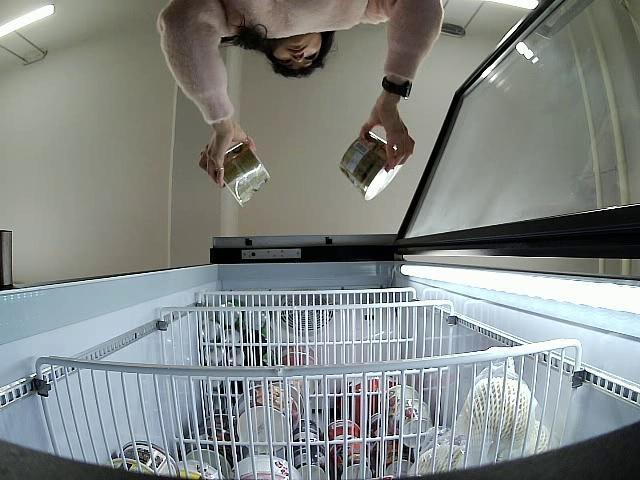03_chapagetti_L: (338, 126, 404, 200), (200, 142, 270, 208)
